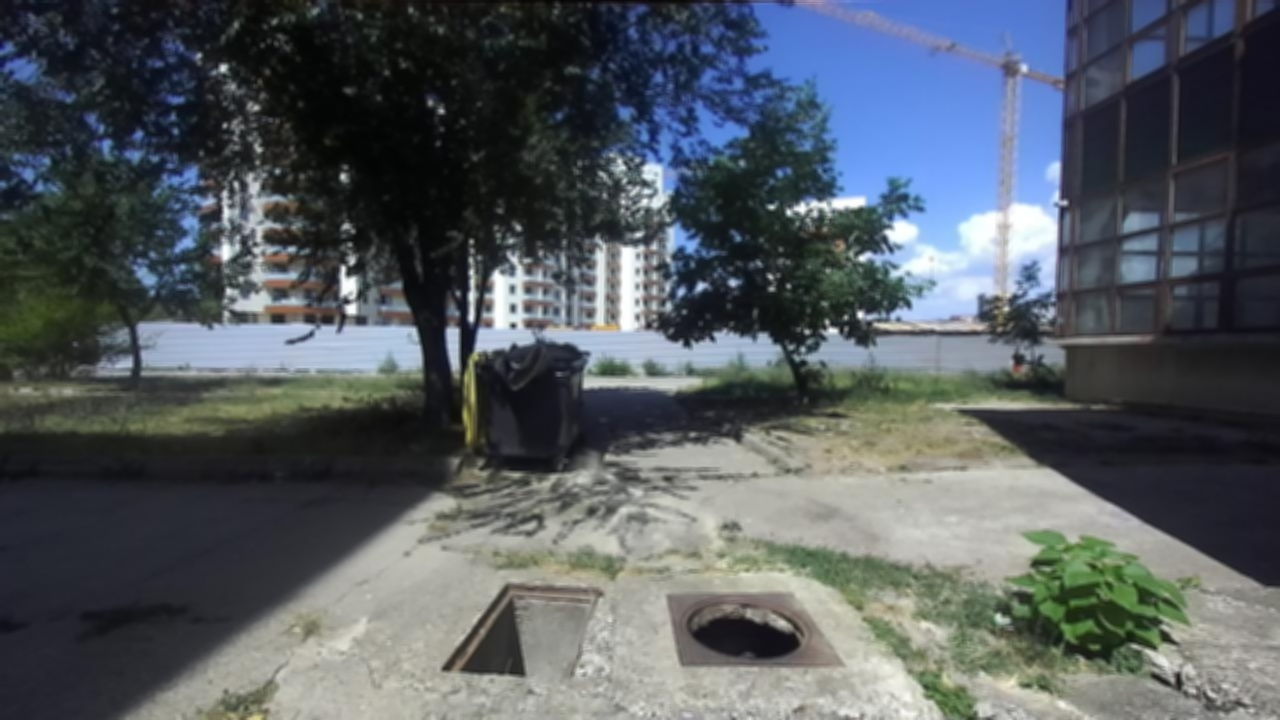drain: (439, 577, 605, 676), (682, 594, 814, 662)
